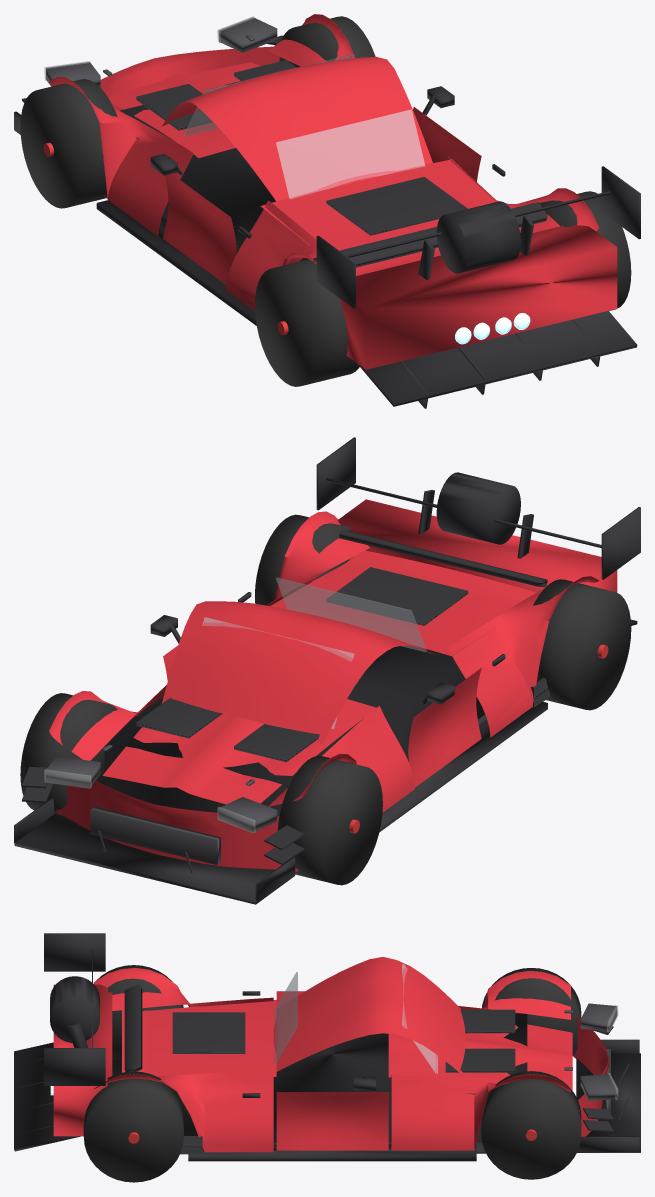
The model's file is modular_gt3_apex_refined.glb.
The picture shows the model from 3 angles, top to bottom: view 1: azimuth 30°, elevation 25°; view 2: azimuth 150°, elevation 25°; view 3: azimuth 270°, elevation 25°; orthographic projection. The views are drawn at different scales.
Visible parts, largest first — view 1: Greenhouse_Roof_Canopy, Rear_Bumper_Fascia, Diffuser_Curved_Ramp, Tire_Slick_Rubber_RL, Tire_Slick_Rubber_FL, Rear_Window_Glass, Dicky_Engine_Cover_Skin, Fender_Front_Left, Chassis_Carbon_Monocoque, Door_Main_Skin_Left, Wing_Main_Aerofoil, Dicky_Cooling_Louvers (+18 smaller); view 2: Greenhouse_Roof_Canopy, Chassis_Carbon_Monocoque, Bonnet_Hood_Skin, Tire_Slick_Rubber_FL, Dicky_Engine_Cover_Skin, Tire_Slick_Rubber_RL, Rear_Bumper_Fascia, Rear_Haunch_Left, Front_Splitter_Tray, Front_Bumper_Fascia, Door_Main_Skin_Left, Dicky_Cooling_Louvers (+20 smaller); view 3: Greenhouse_Roof_Canopy, Tire_Slick_Rubber_RR, Tire_Slick_Rubber_FR, Rear_Haunch_Right, Fender_Front_Right, Door_Main_Skin_Right, Dicky_Engine_Cover_Skin, Chassis_Carbon_Monocoque, Bonnet_Hood_Skin, Diffuser_Curved_Ramp, Side_Skirts_Right, Rear_Bumper_Fascia (+20 smaller).
Boxes of the visible parts, bbox=[...] form: Greenhouse_Roof_Canopy: bbox=[161, 56, 432, 201]; Rear_Bumper_Fascia: bbox=[339, 225, 617, 369]; Diffuser_Curved_Ramp: bbox=[357, 311, 637, 406]; Tire_Slick_Rubber_RL: bbox=[255, 257, 359, 386]; Tire_Slick_Rubber_FL: bbox=[20, 79, 117, 208]; Rear_Window_Glass: bbox=[276, 109, 425, 198]; Dicky_Engine_Cover_Skin: bbox=[260, 159, 521, 275]; Fender_Front_Left: bbox=[49, 76, 193, 236]; Chassis_Carbon_Monocoque: bbox=[119, 66, 435, 261]; Door_Main_Skin_Left: bbox=[163, 174, 236, 284]; Wing_Main_Aerofoil: bbox=[436, 201, 520, 273]; Dicky_Cooling_Louvers: bbox=[326, 177, 467, 235]; Greenhouse_Roof_Canopy: bbox=[162, 601, 433, 744]; Chassis_Carbon_Monocoque: bbox=[104, 646, 484, 816]; Bonnet_Hood_Skin: bbox=[102, 699, 376, 804]; Tire_Slick_Rubber_FL: bbox=[277, 755, 382, 885]; Dicky_Engine_Cover_Skin: bbox=[270, 550, 536, 656]; Tire_Slick_Rubber_RL: bbox=[533, 579, 631, 710]; Rear_Bumper_Fascia: bbox=[337, 499, 617, 592]; Rear_Haunch_Left: bbox=[448, 576, 599, 737]; Front_Splitter_Tray: bbox=[14, 814, 294, 904]; Front_Bumper_Fascia: bbox=[56, 780, 298, 871]; Door_Main_Skin_Left: bbox=[408, 668, 481, 787]; Dicky_Cooling_Louvers: bbox=[326, 567, 468, 625]; Greenhouse_Roof_Canopy: bbox=[273, 957, 464, 1076]; Tire_Slick_Rubber_RR: bbox=[83, 1071, 183, 1182]; Tire_Slick_Rubber_FR: bbox=[481, 1071, 581, 1179]; Rear_Haunch_Right: bbox=[94, 1070, 273, 1152]; Fender_Front_Right: bbox=[391, 1074, 570, 1150]; Door_Main_Skin_Right: bbox=[276, 1092, 388, 1150]; Dicky_Engine_Cover_Skin: bbox=[122, 1000, 276, 1080]; Chassis_Carbon_Monocoque: bbox=[174, 1013, 527, 1143]; Bonnet_Hood_Skin: bbox=[388, 1024, 572, 1090]; Diffuser_Curved_Ramp: bbox=[14, 1042, 80, 1151]; Side_Skirts_Right: bbox=[188, 1144, 476, 1161]; Rear_Bumper_Fascia: bbox=[53, 984, 112, 1136].
Size of the model in its own units: 2.09 by 0.9896 by 4.26.
